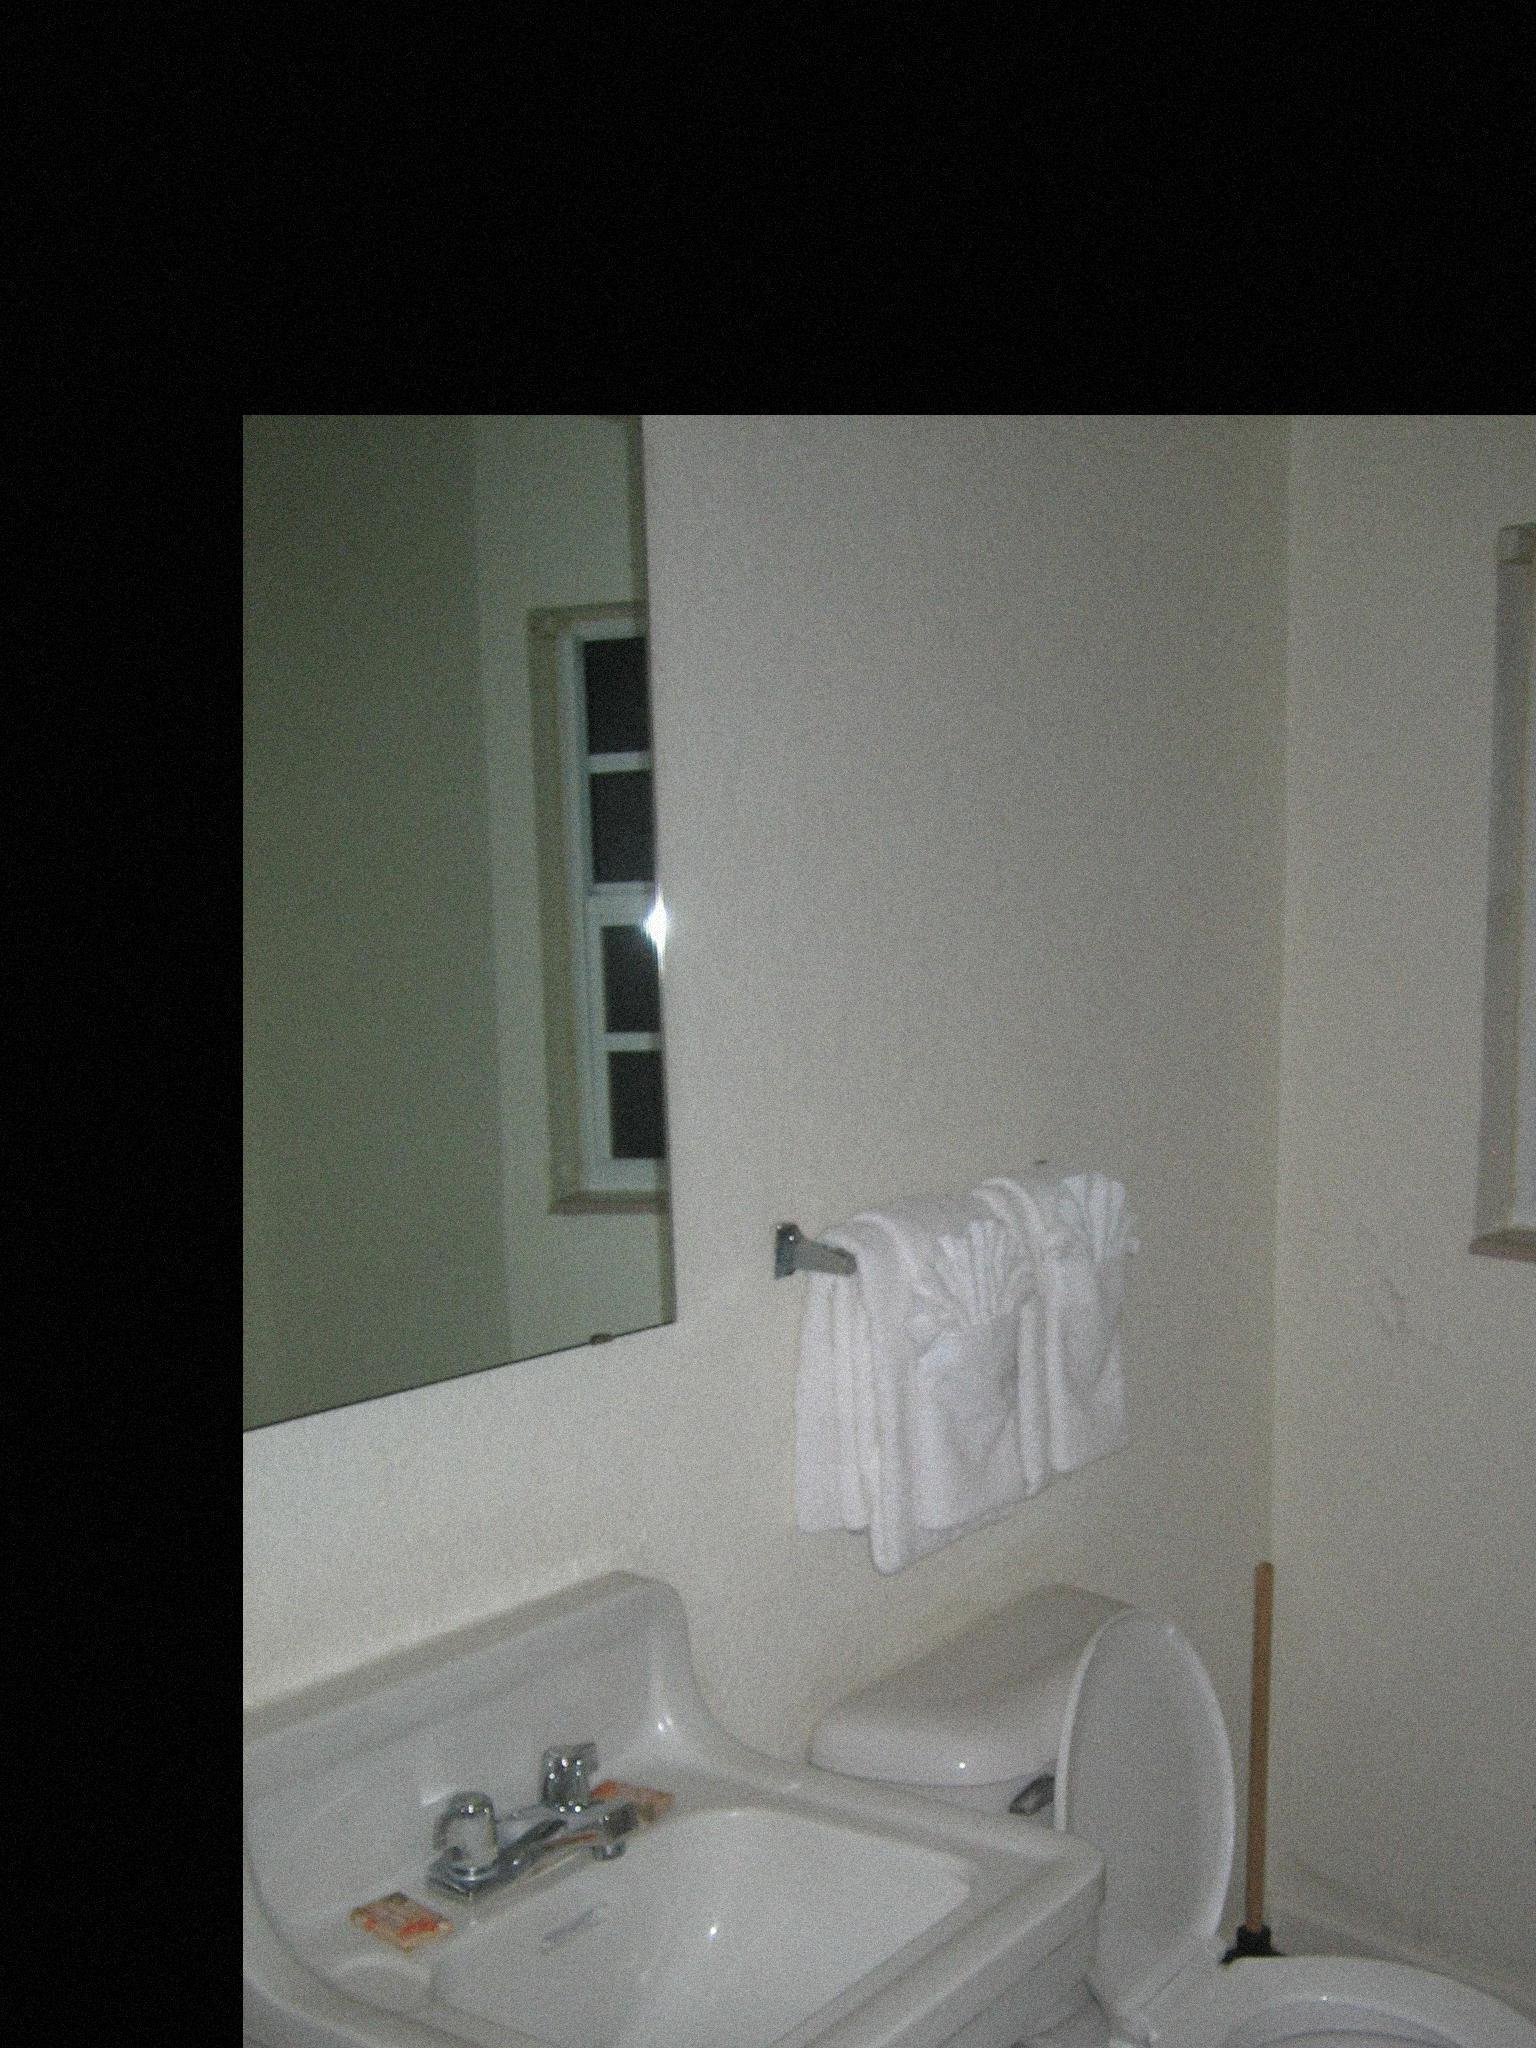Bote de Basura: (250, 1584, 1121, 2048)
Lavamanos: (920, 1551, 1536, 2048)
